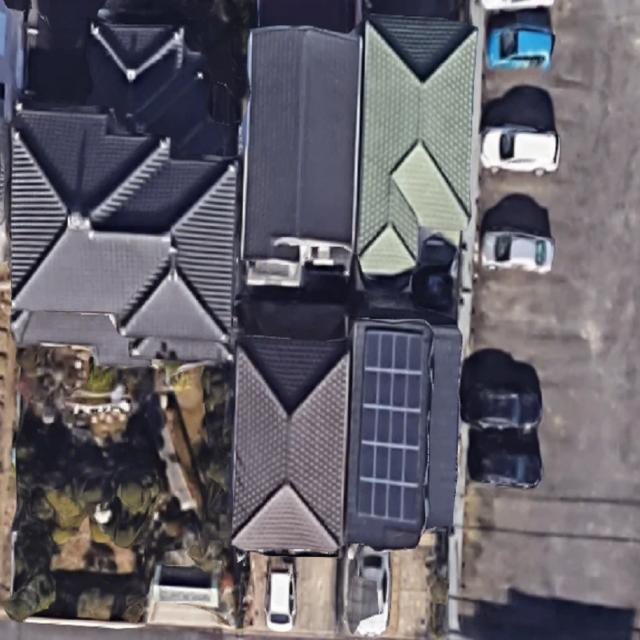Batiment: (10, 112, 238, 366), (241, 26, 362, 287), (346, 321, 461, 549), (234, 336, 350, 552), (391, 142, 468, 231)
